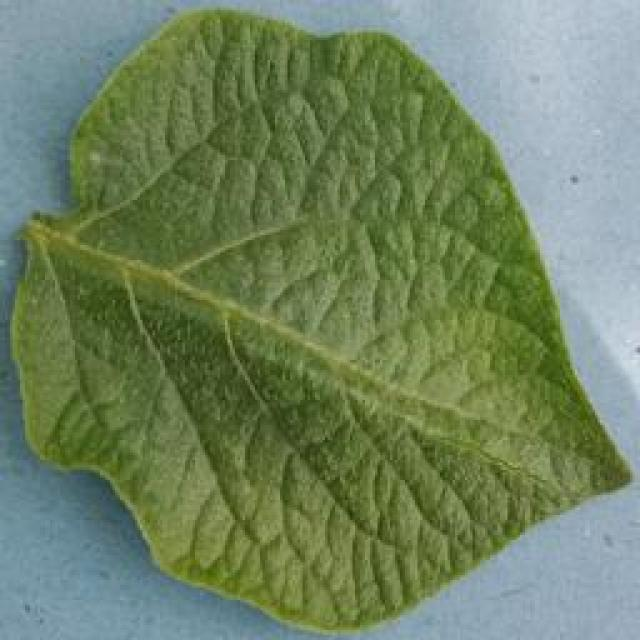Potato_Healthy: (11, 8, 626, 630)
